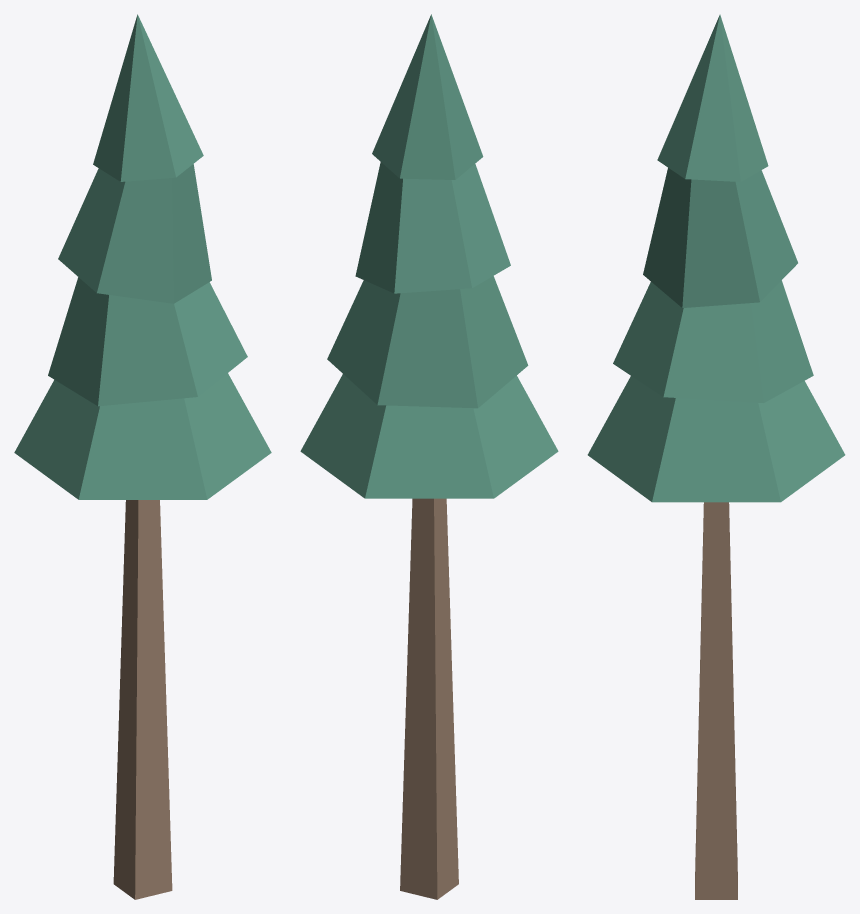
File: nature_tree_pineTallD.glb
3 renders of one model, left to right at view 1: azimuth 30°, elevation 25°; view 2: azimuth 150°, elevation 25°; view 3: azimuth 270°, elevation 25°, orthographic.
Parts seen in each view (by area): view 1: tree_pineTallD; view 2: tree_pineTallD; view 3: tree_pineTallD.
Boxes of the visible parts, box(x1,y1,x2,y2) form: tree_pineTallD: box(14, 14, 271, 899); tree_pineTallD: box(300, 14, 558, 899); tree_pineTallD: box(587, 14, 845, 899).
Bounding box in the file's own units: 0.4804 × 2.08 × 0.5547.
